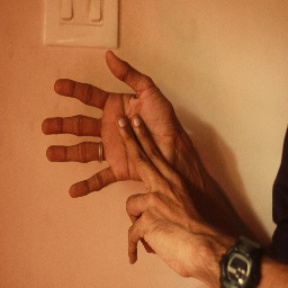N: (32, 48, 208, 251)
